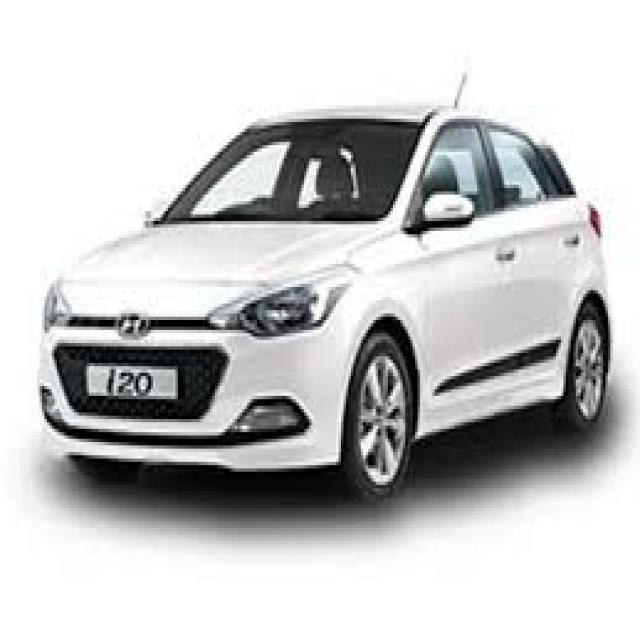Car: (37, 93, 617, 509)
